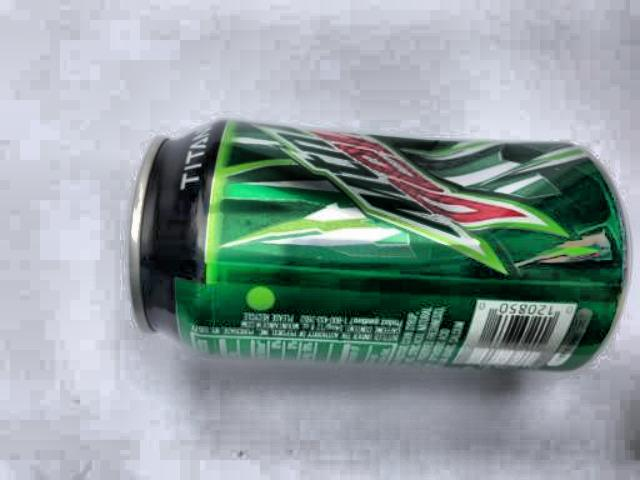Bottles: (116, 98, 640, 406)
